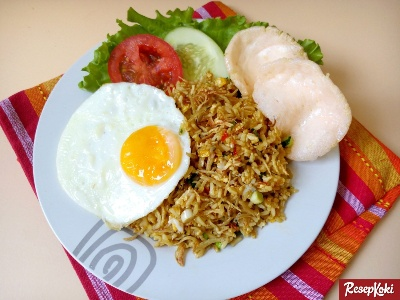nasigoreng: (67, 81, 292, 249)
